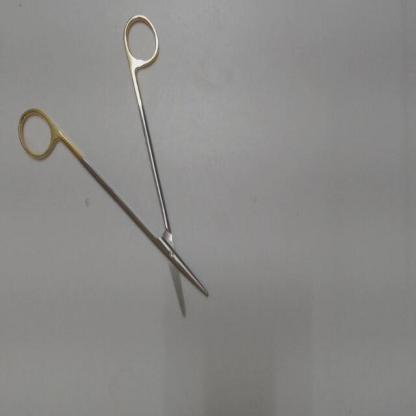7 Metzenbaum Scissors: (13, 9, 216, 318)
